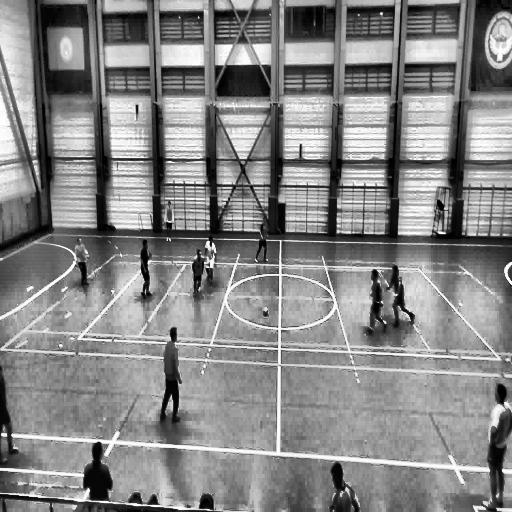ball: (263, 306, 268, 315)
player: (483, 385, 512, 509), (160, 327, 181, 423), (384, 265, 411, 326), (366, 270, 386, 335), (74, 237, 88, 287), (141, 238, 152, 298), (205, 234, 218, 283), (193, 248, 205, 296), (255, 220, 268, 262), (165, 200, 174, 240)
